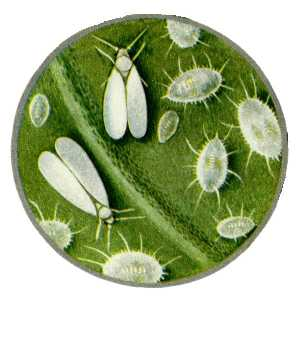whitefly: (36, 137, 135, 239), (91, 27, 149, 140)
